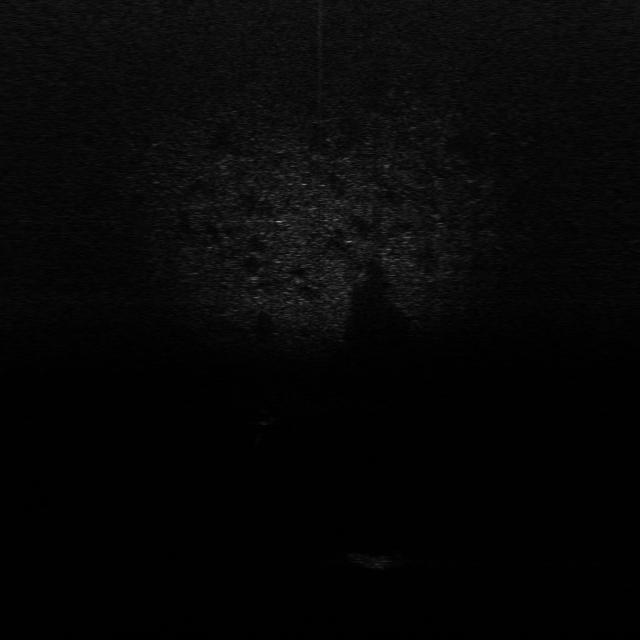ball: (249, 406, 277, 426)
metal bucket: (343, 544, 411, 574)
